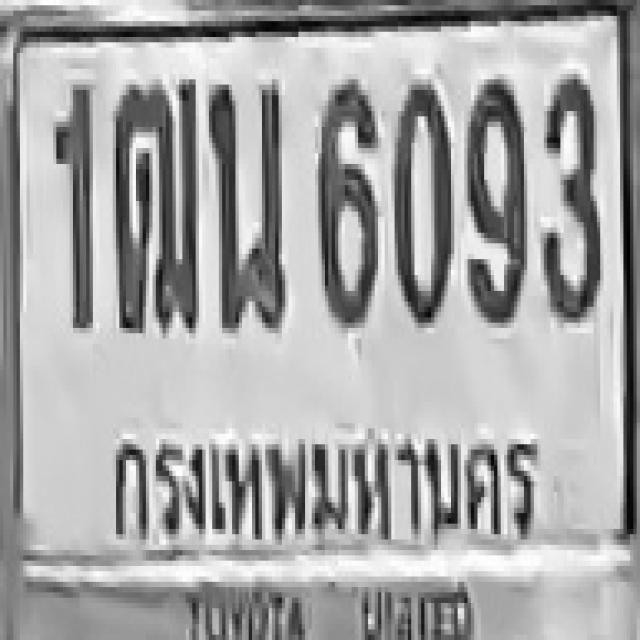0: (391, 79, 451, 323)
1: (50, 82, 93, 331)
27ThorPhuThao: (111, 77, 197, 330)
3: (537, 69, 600, 317)
34NorNu: (206, 79, 285, 328)
6: (315, 77, 378, 325)
9: (464, 74, 524, 323)
Bangkok: (96, 412, 536, 558)
